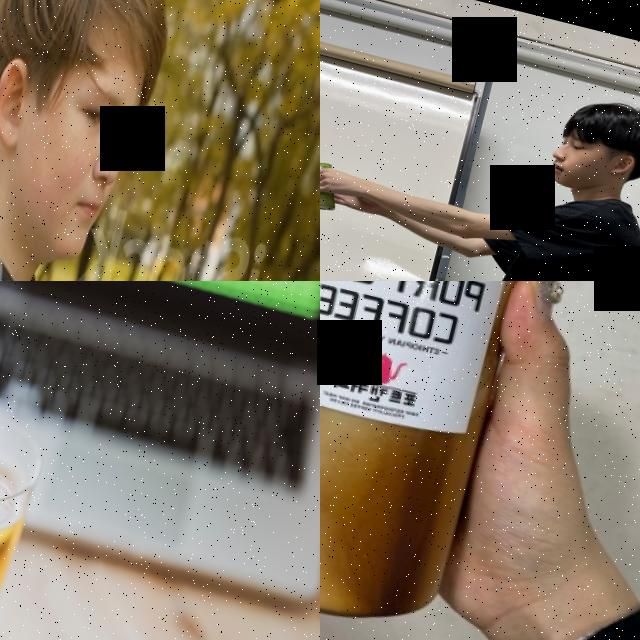can: (320, 281, 562, 640), (320, 158, 345, 214)
